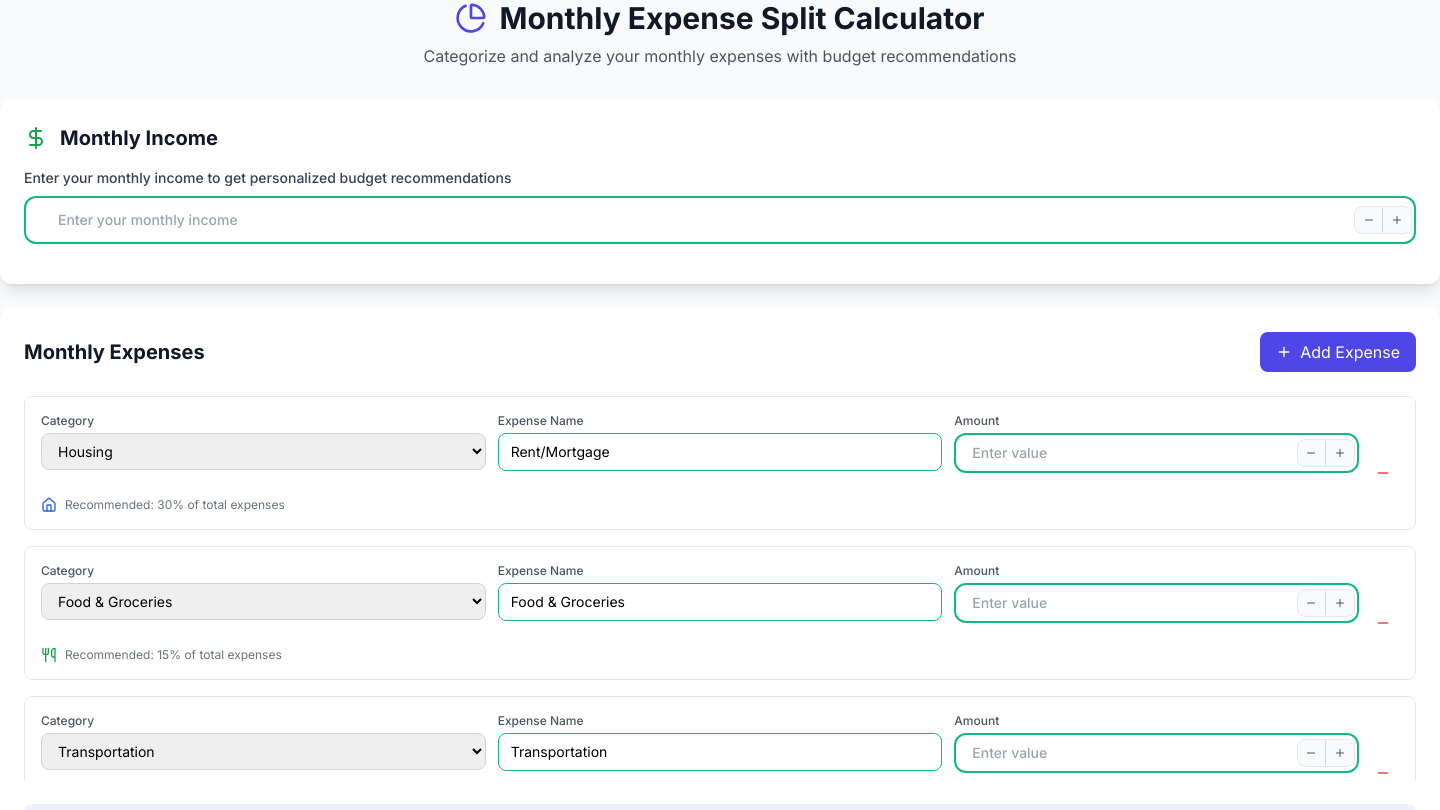
Test: MonthlyExpenseCalculator - Comprehensive Recursive Test Suite › 💰 Income Input Functionality › should calculate correct budget percentages
The image size is (1440, 810).
Step 1. Type "10000" into the field with placeholder "Enter your monthly income" → (720, 220), box [24,196,1416,244]
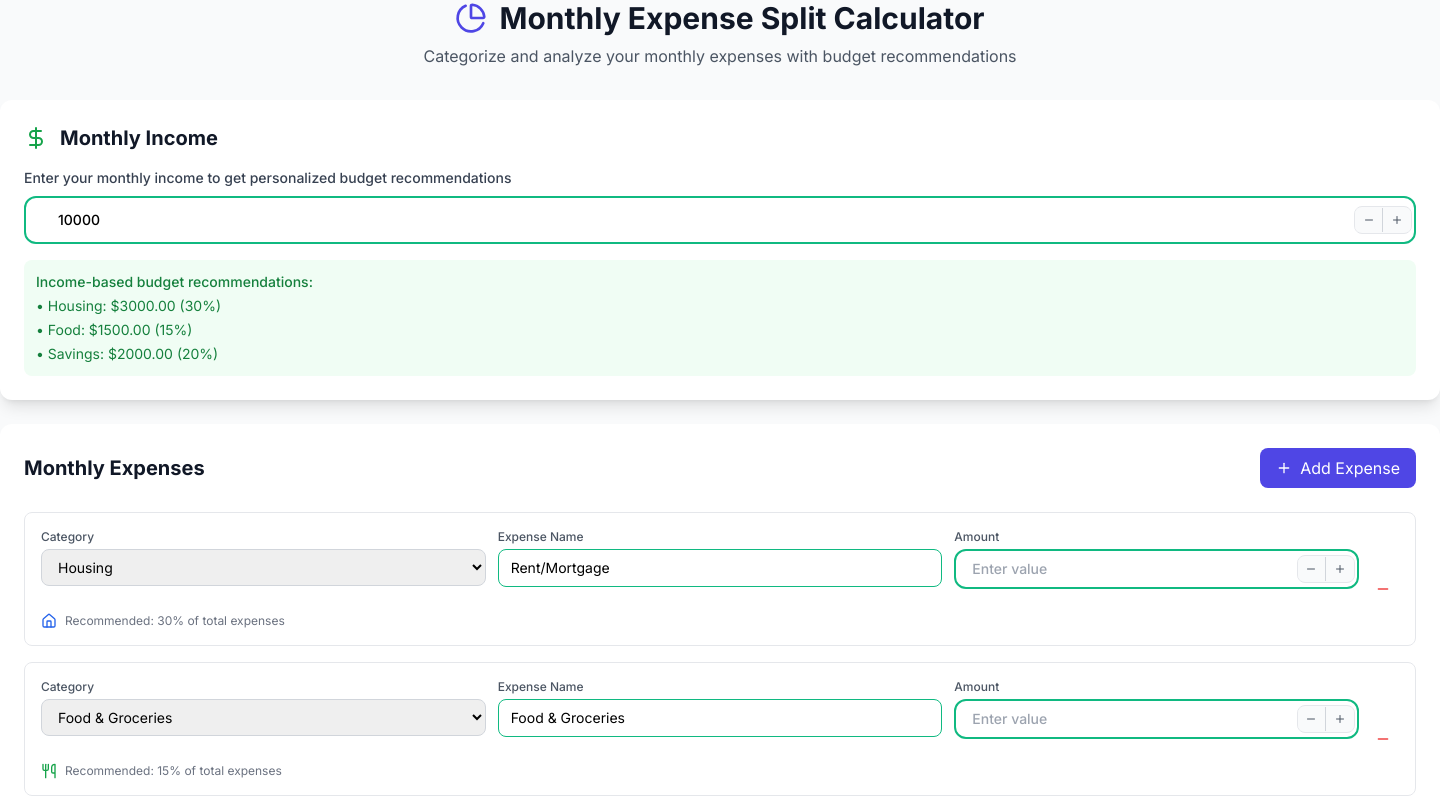
Result: the text "• Housing: $3000.00 (30%)" is shown at [36,297,221,314]
Result: the text "• Food: $1500.00 (15%)" is shown at [36,321,192,338]
Result: the text "• Savings: $2000.00 (20%)" is shown at [36,345,218,362]
